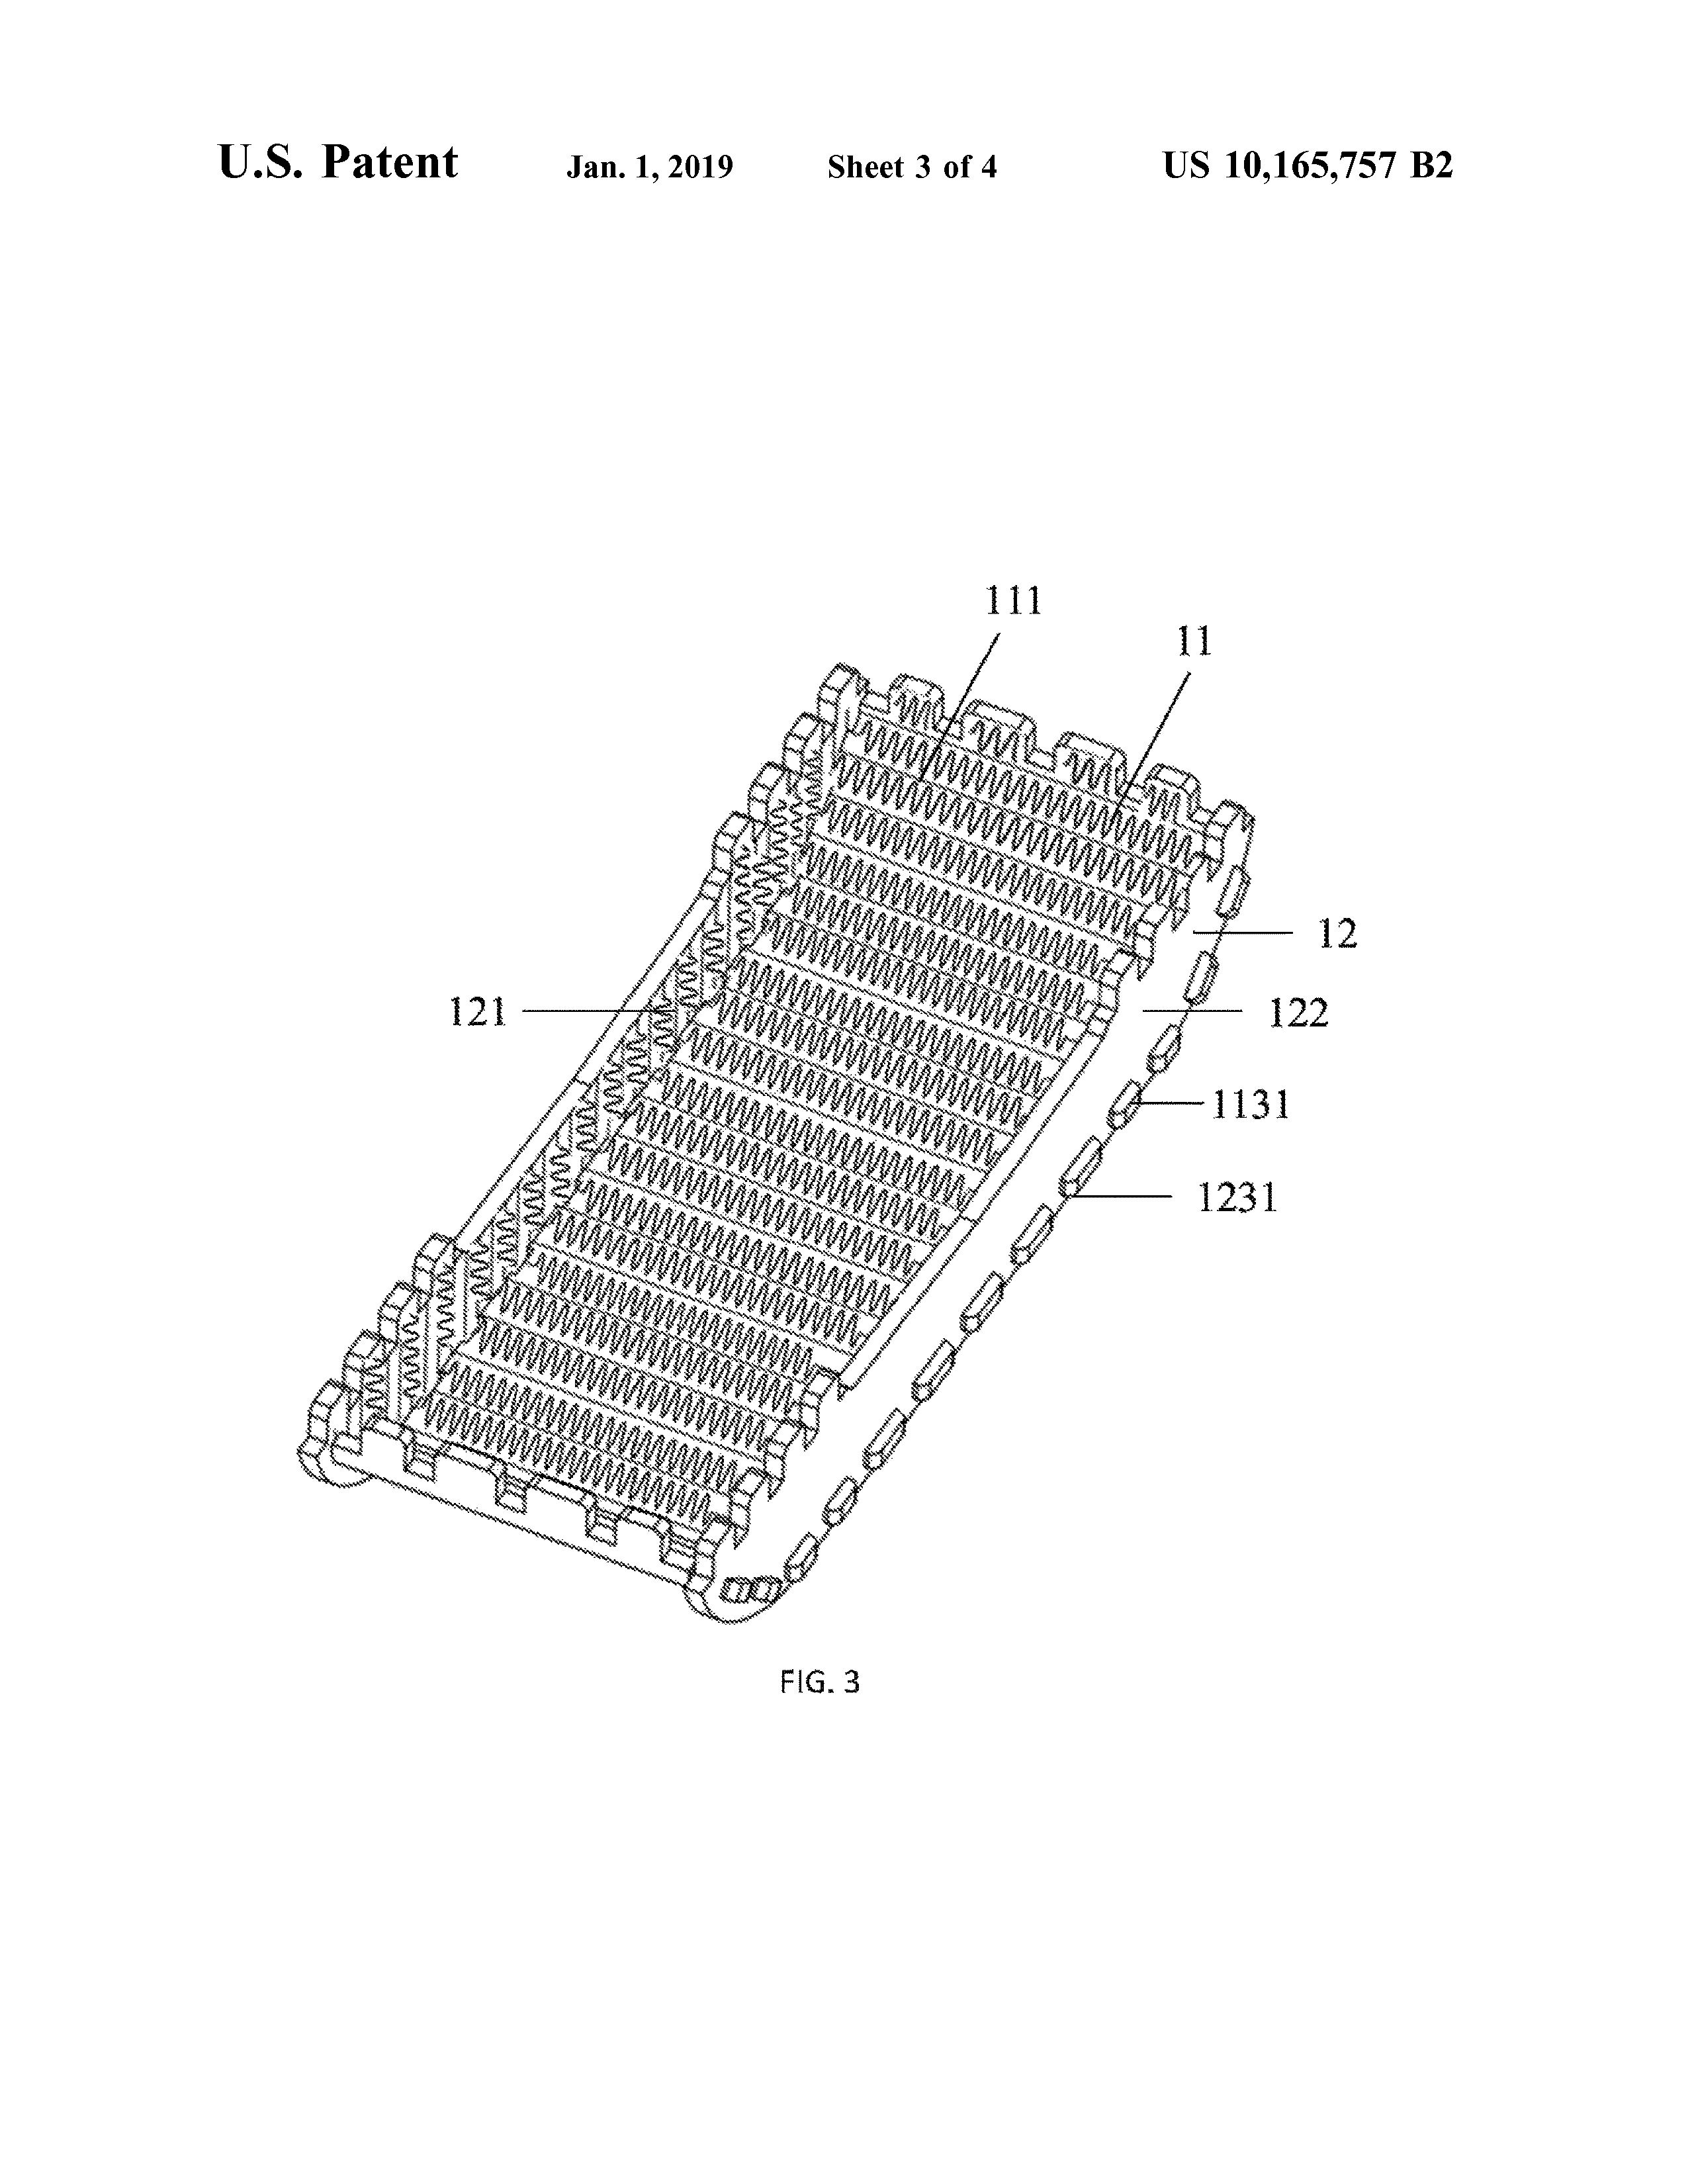patent image: (281, 518, 1400, 1712)
